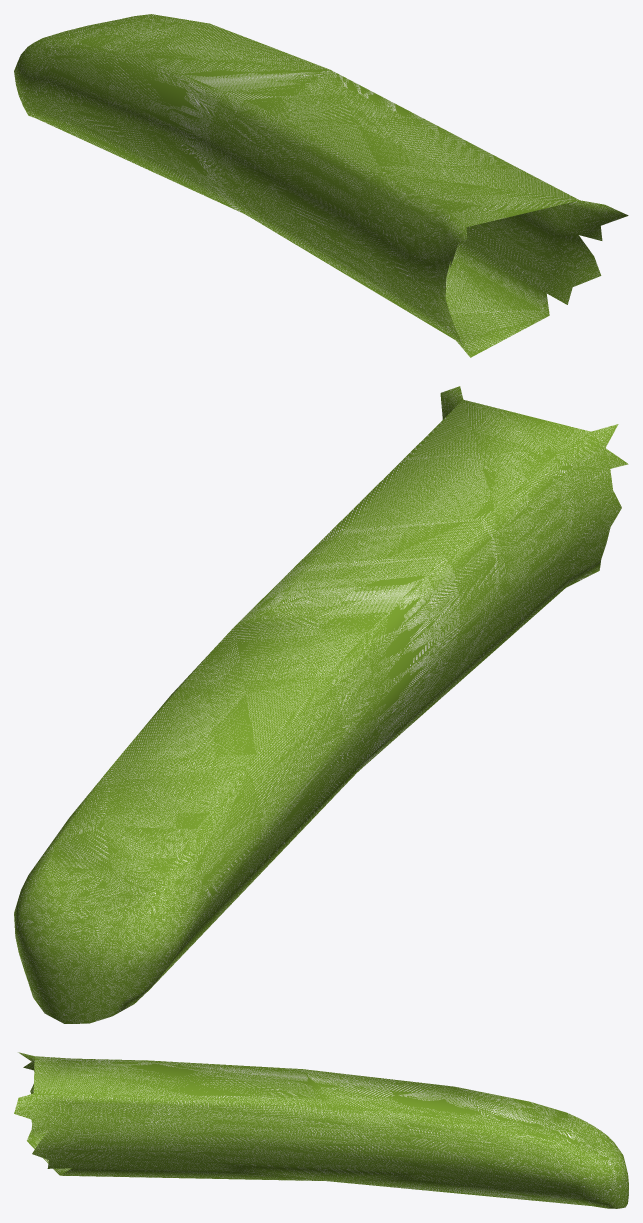
The picture shows the model from 3 angles, top to bottom: view 1: azimuth 30°, elevation 25°; view 2: azimuth 150°, elevation 25°; view 3: azimuth 270°, elevation 25°; orthographic projection. The views are drawn at different scales.
Size of the model in its own units: 0.1355 by 0.1409 by 0.563.
